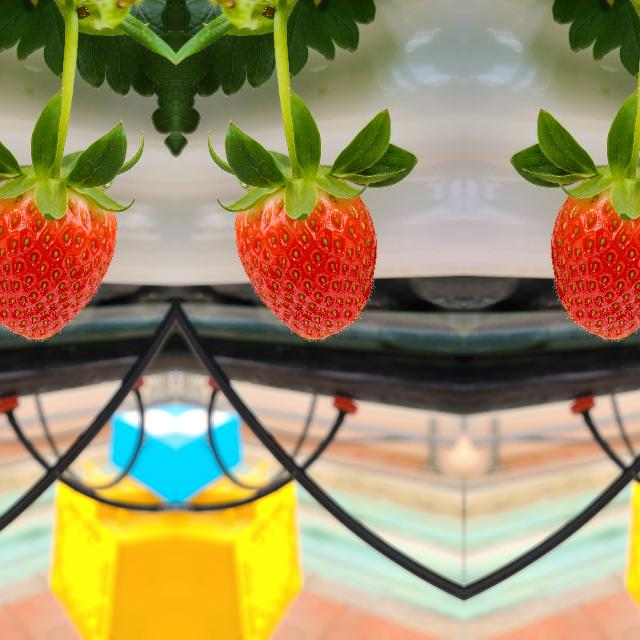Health_100: (233, 185, 377, 342), (0, 185, 117, 342), (549, 185, 640, 342)
